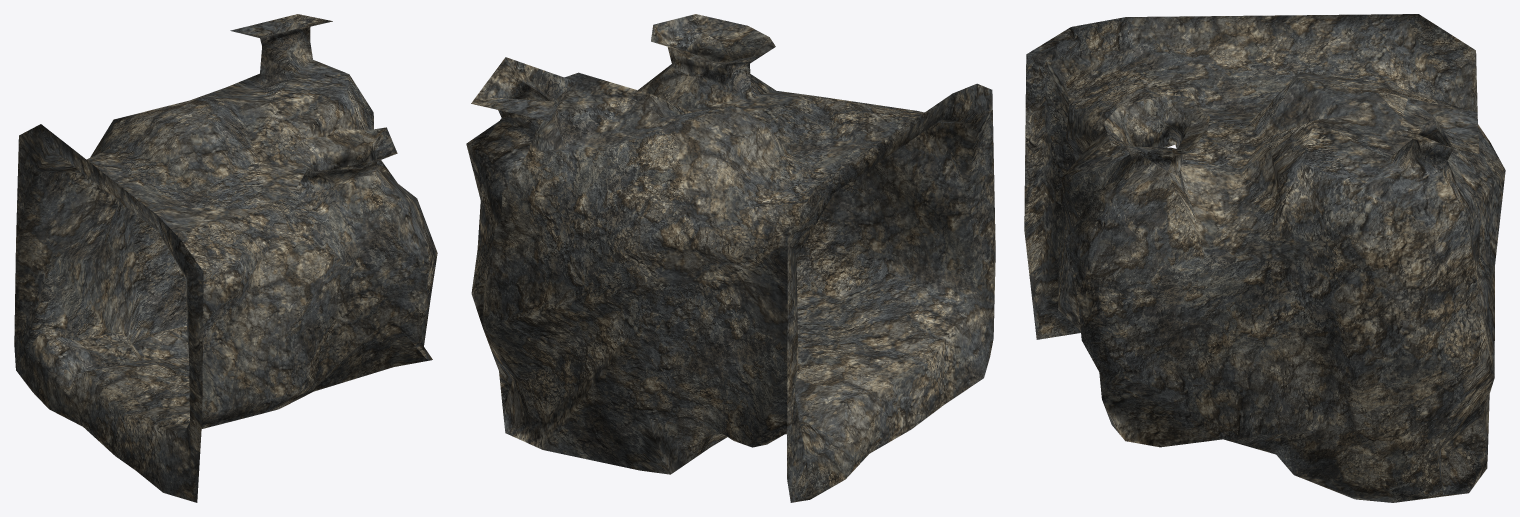
The model's file is Module15D_LOD2.fbx.
3 views of the same model, side by side, from view 1: azimuth 30°, elevation 25°; view 2: azimuth 150°, elevation 25°; view 3: azimuth 270°, elevation 25° (orthographic). The views are drawn at different scales.
Parts seen in each view (by area): view 1: cave_el15D_1900:Group783; view 2: cave_el15D_1900:Group783; view 3: cave_el15D_1900:Group783.
Part boxes in pixels (left/top/right/bottom): cave_el15D_1900:Group783: left=14, top=14, right=437, bottom=502; cave_el15D_1900:Group783: left=466, top=14, right=995, bottom=502; cave_el15D_1900:Group783: left=1024, top=14, right=1505, bottom=502.
Size of the model in its own units: 35.13 by 33.46 by 37.77.
